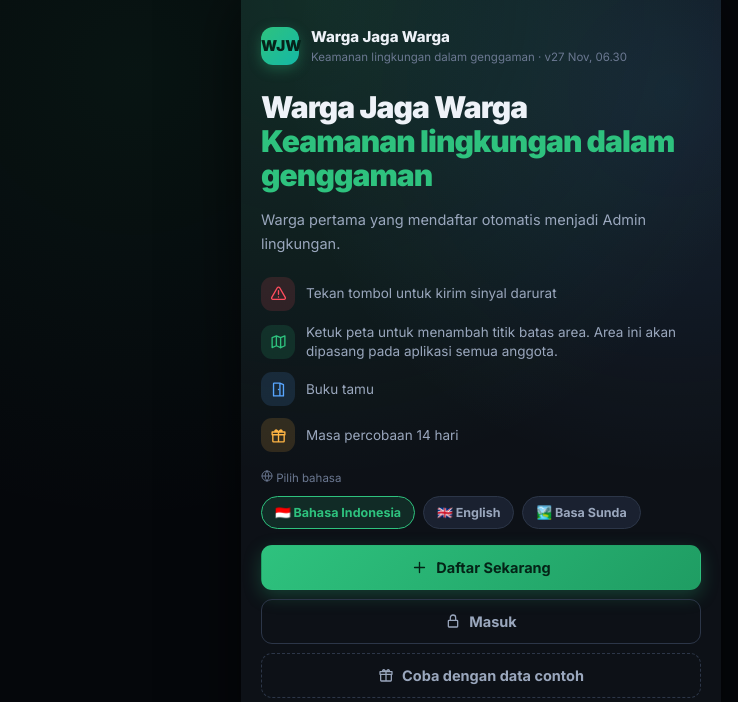
Test case: Warga Jaga Warga › switches the landing language to English
The width and height of the screenshot is (738, 702).
Click the button "🇬🇧 English" at (469, 512), box [423, 496, 514, 529]
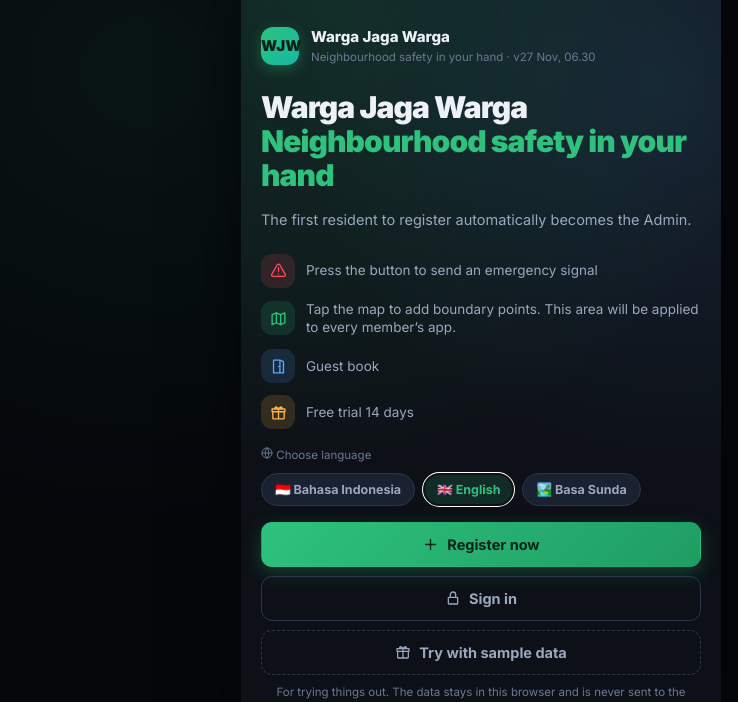
Expected: the button "Register now" is shown, [261, 522, 701, 566]
